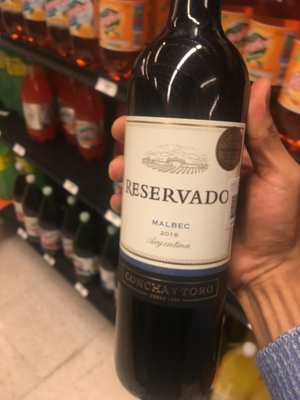reservado malbec: (120, 5, 246, 400)
